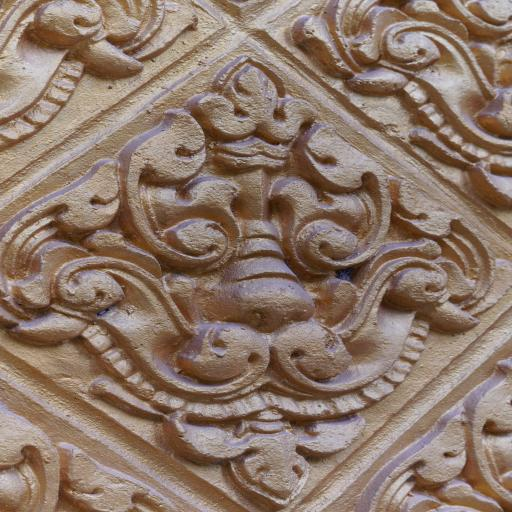lua: (0, 39, 512, 512), (251, 2, 512, 242), (0, 2, 231, 197), (354, 339, 512, 512), (0, 390, 188, 511)
